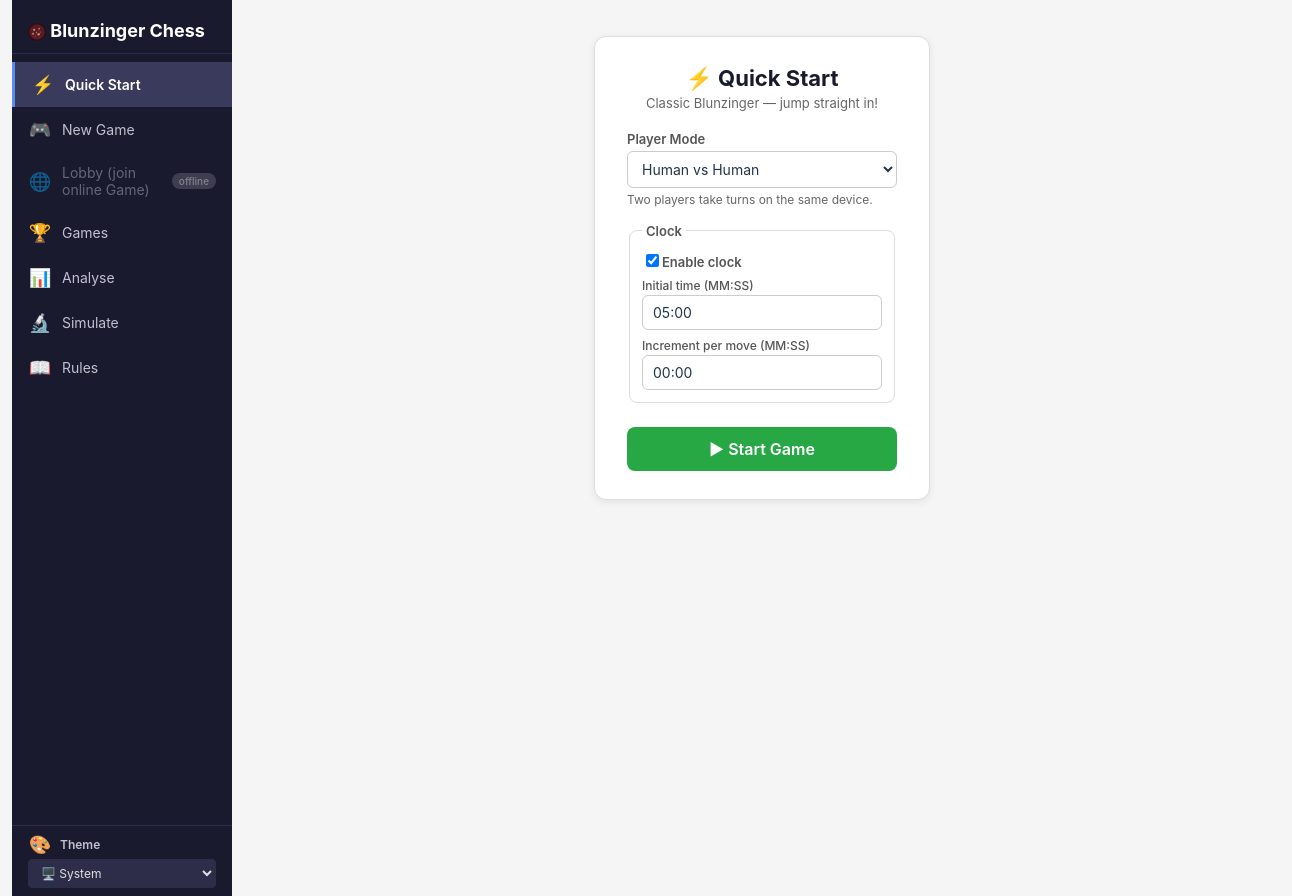
Setup screen numeric input editing › starting a game uses the committed numeric value
Click the button "🎮 New Game".
click(122, 130)  # box [12, 107, 232, 152]
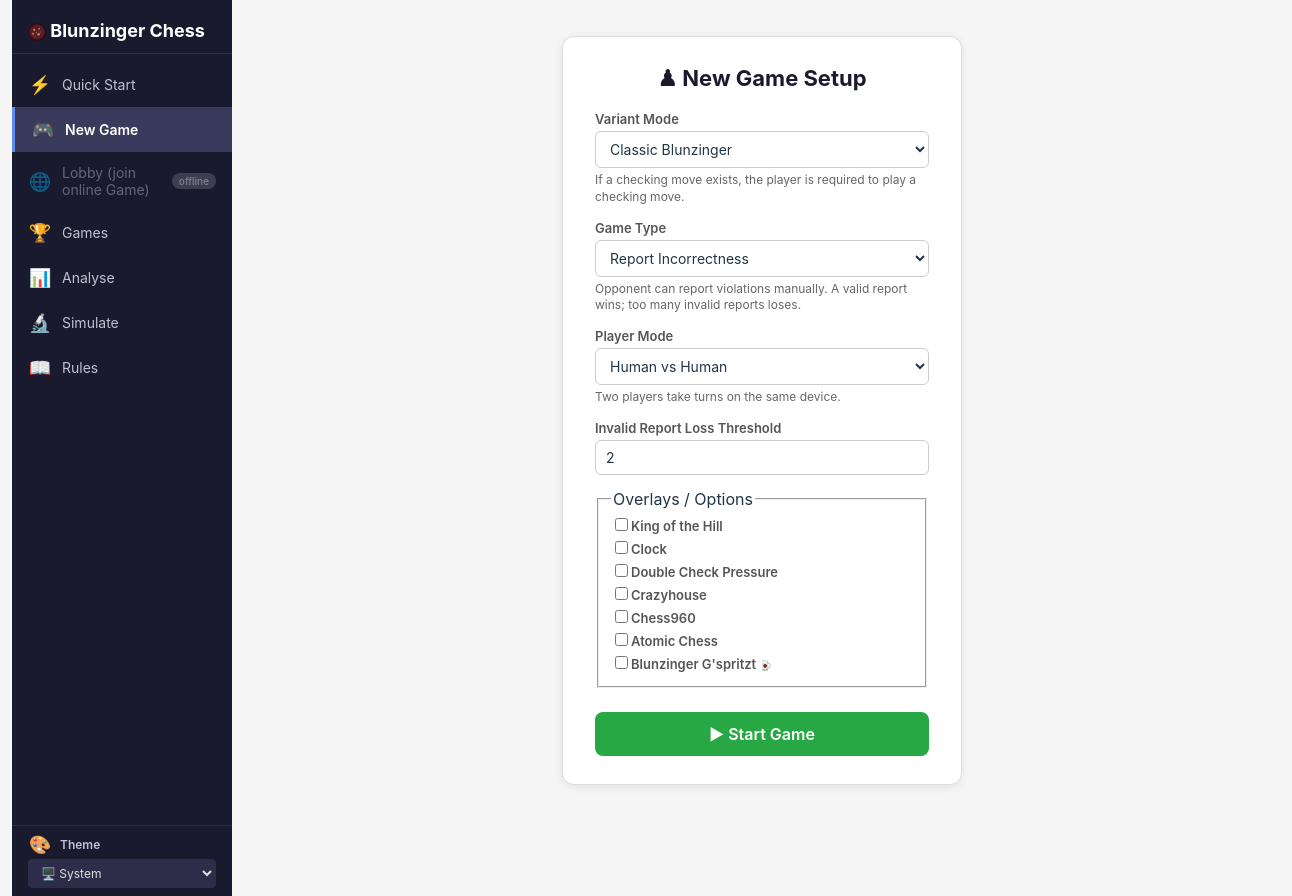
Replace the text in the number field labelled "Invalid Report Loss Threshold" with "4" at (762, 458), box [595, 440, 929, 475]
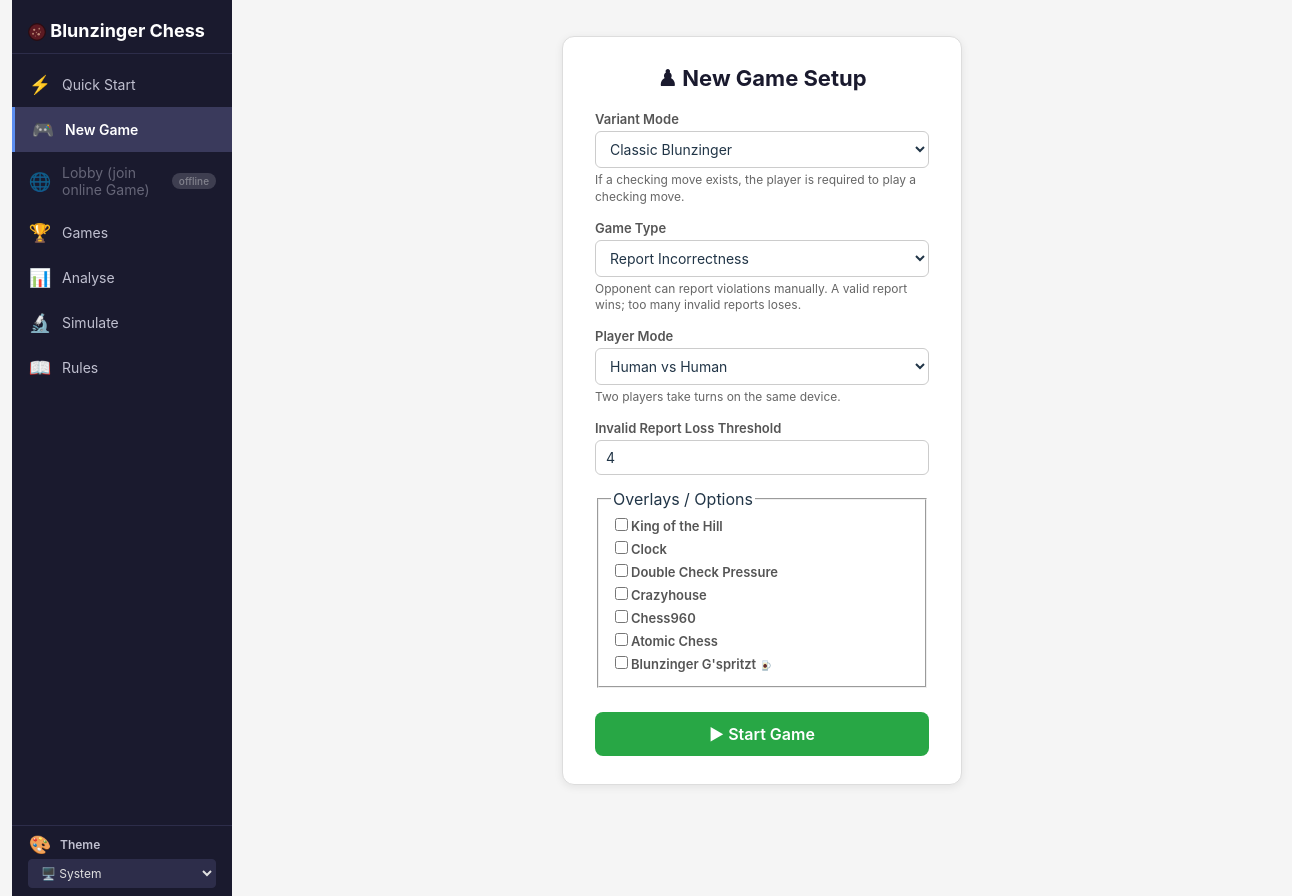
Click the button "▶ Start Game".
click(762, 734)  # box [595, 712, 929, 756]
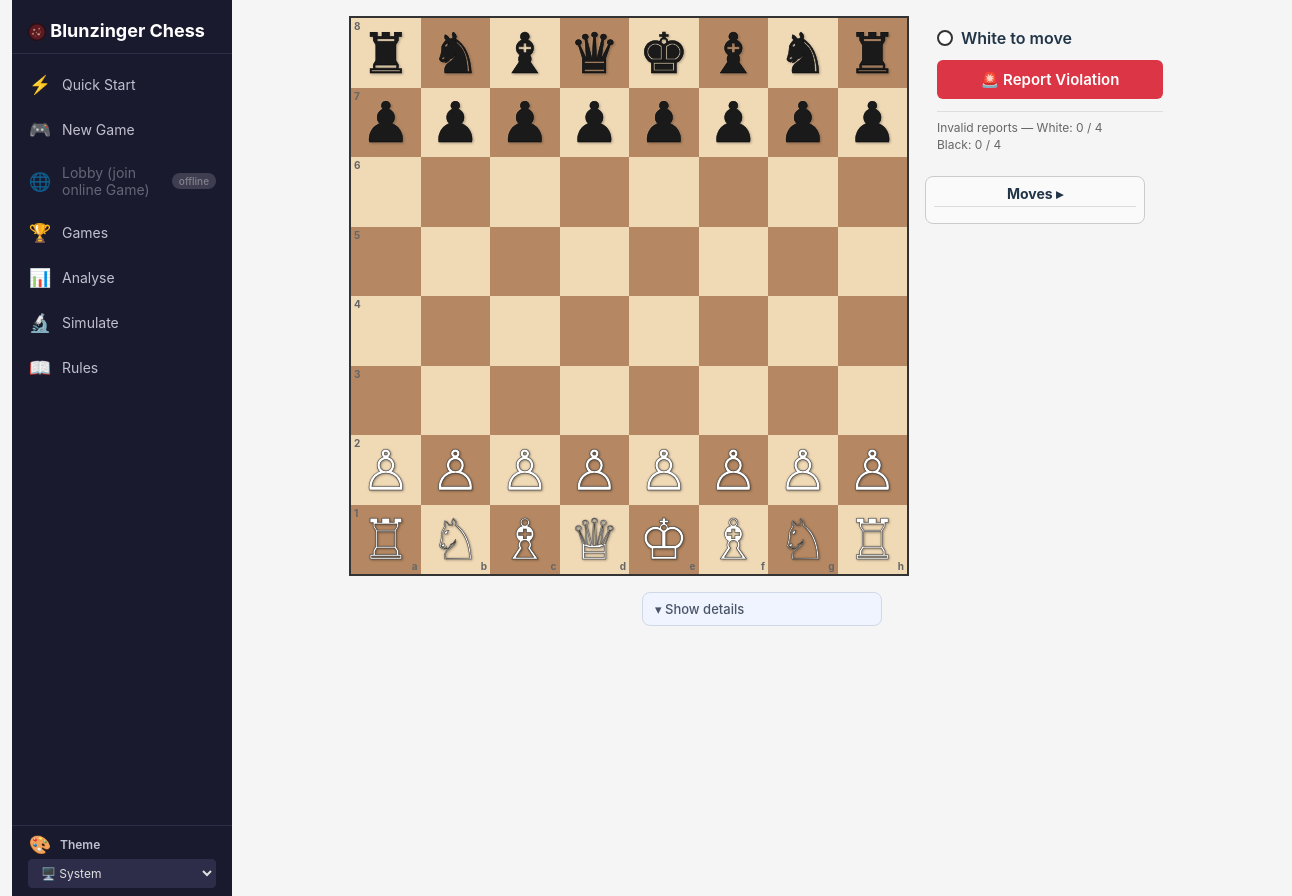
Click the button "▾ Show details".
click(762, 609)  # box [642, 592, 882, 626]
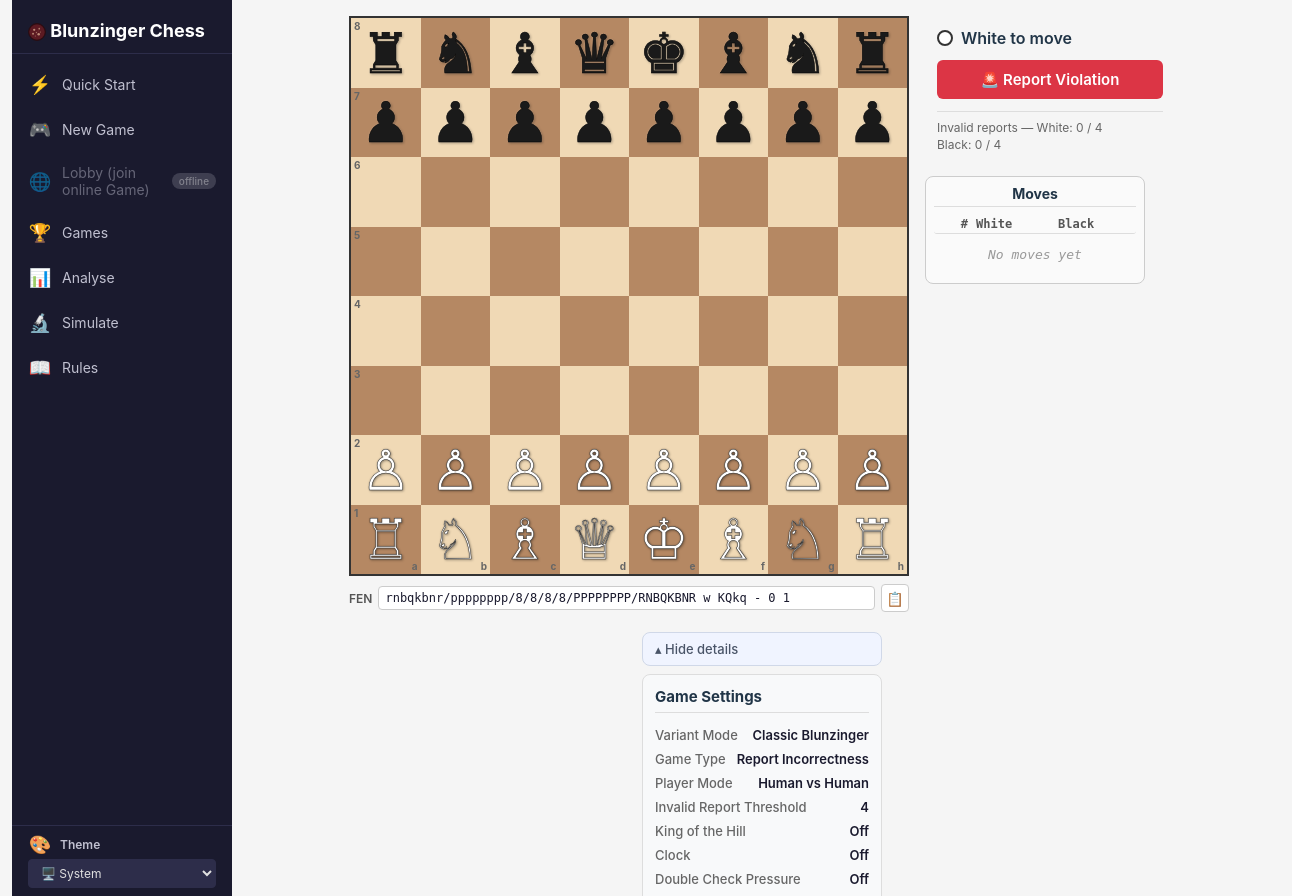
Expected: the text "4" next to "Invalid Report Threshold" is shown, [860, 799, 869, 815]
